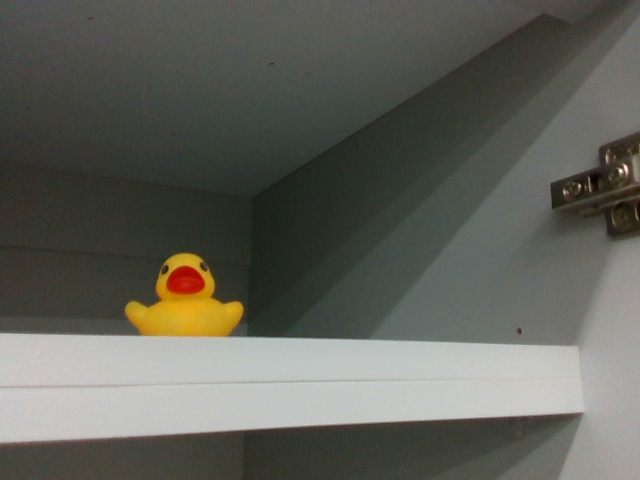duck: (122, 248, 246, 336)
